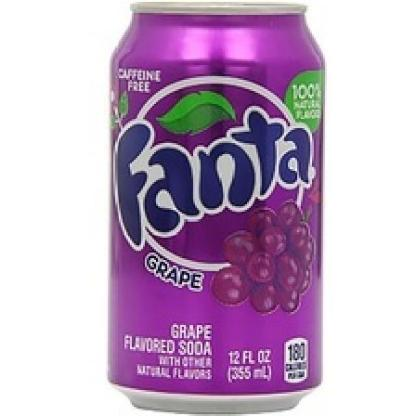Can: (105, 0, 322, 414)
